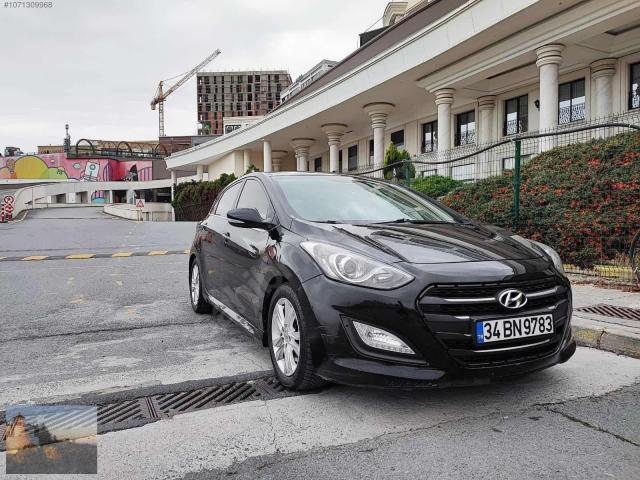plaka: (476, 314, 554, 343)
